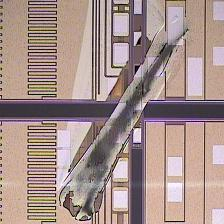PARTICLE: (57, 12, 193, 224)
